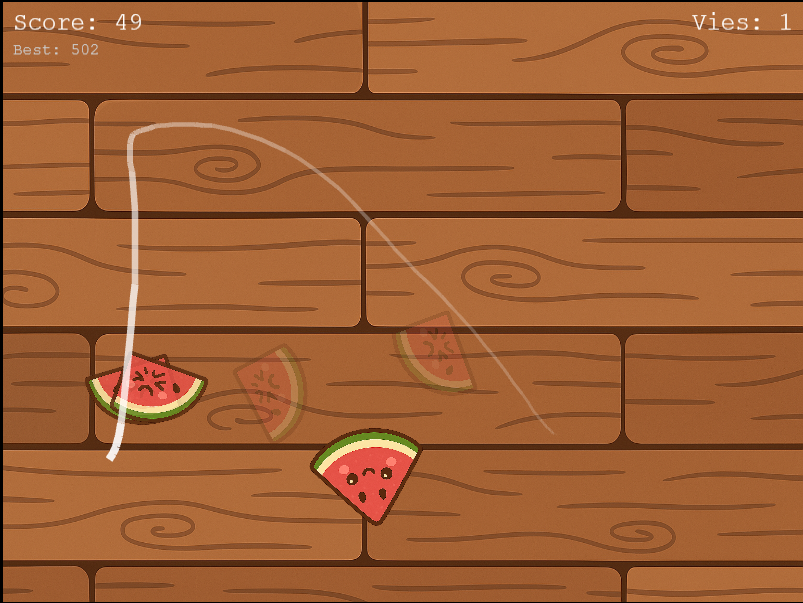fruit: (309, 418, 423, 525)
